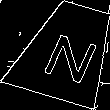N_N: (34, 21, 100, 82)
